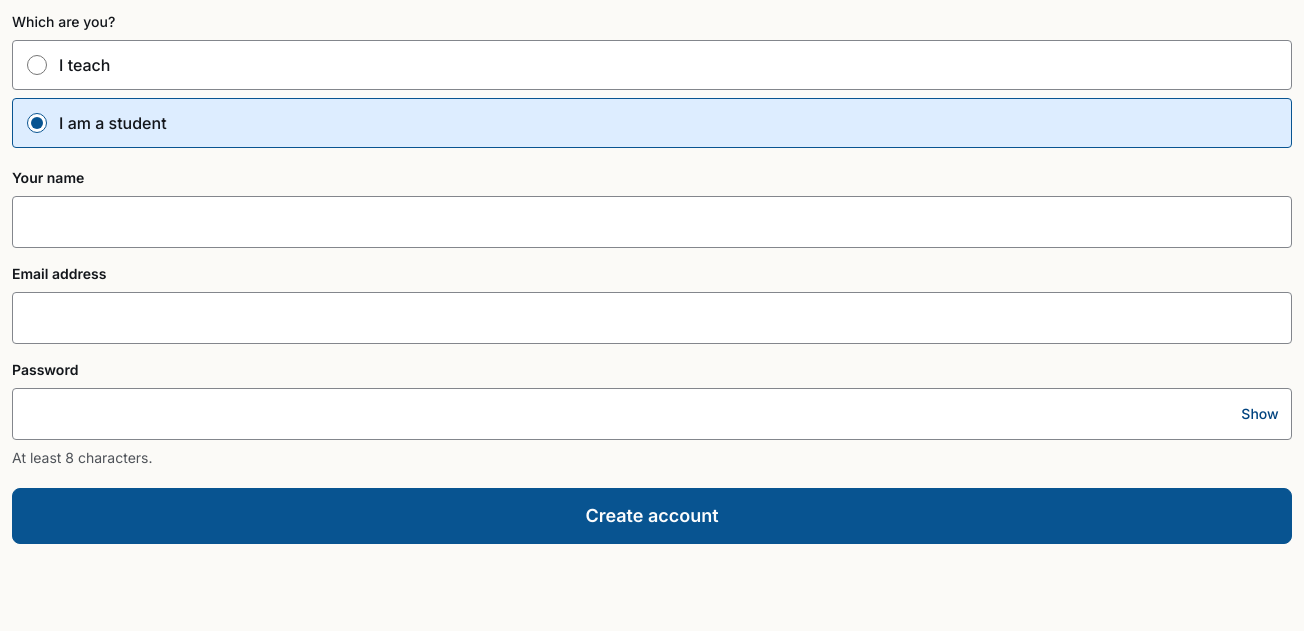
Test: SignUpForm (#361) › announces a failed CAPTCHA without moving focus into a field
Type "Ada Lovelace" into the field labelled "Your name" at x=652, y=222, box [12,196,1292,248]
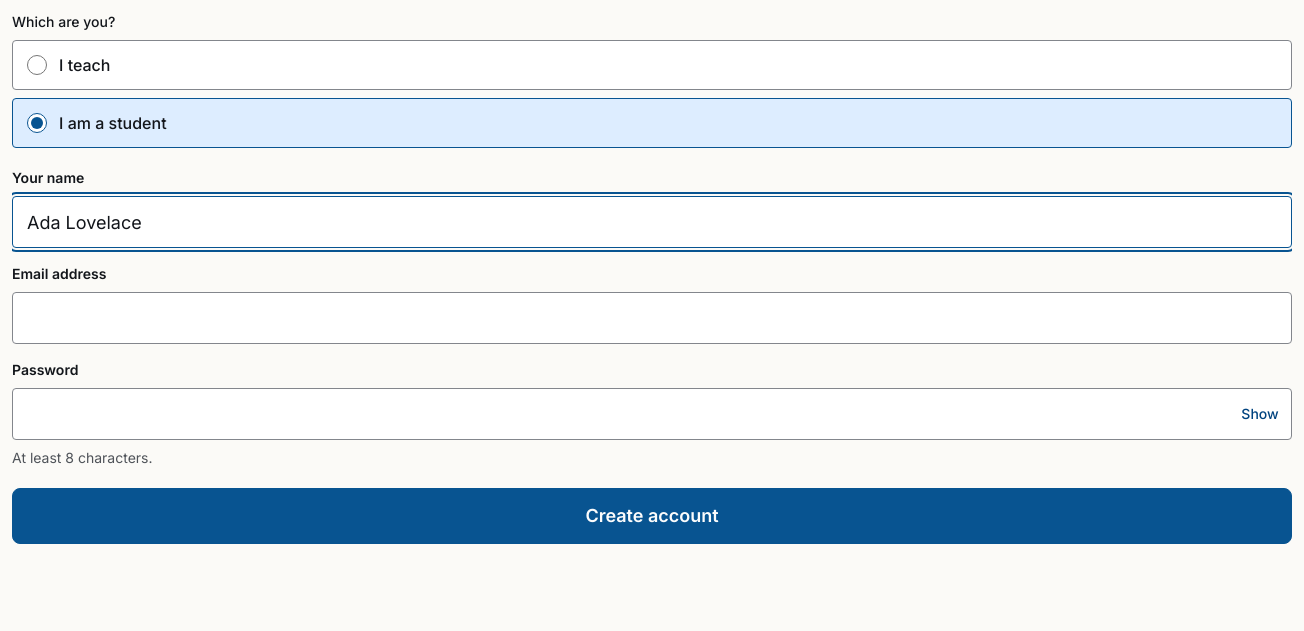
Type "ada@school.edu" into the field labelled "Email address" at x=652, y=318, box [12,292,1292,344]
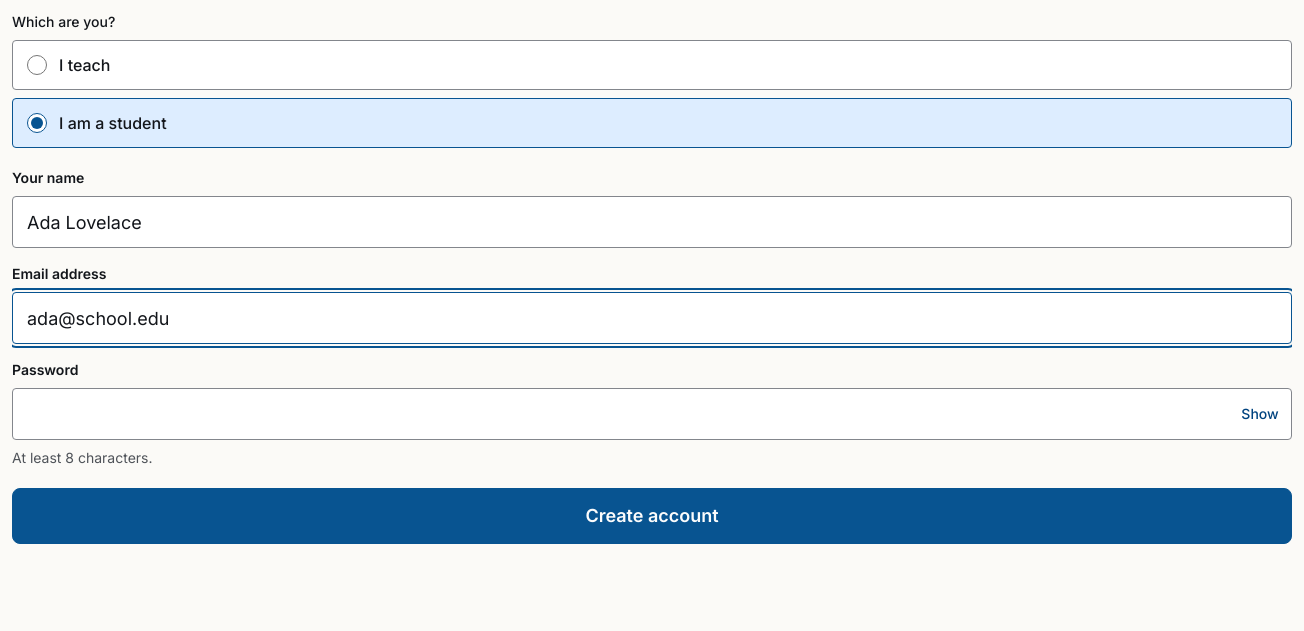
Type "correct horse battery" into the password field labelled "Password" at x=652, y=414, box [12,388,1292,440]
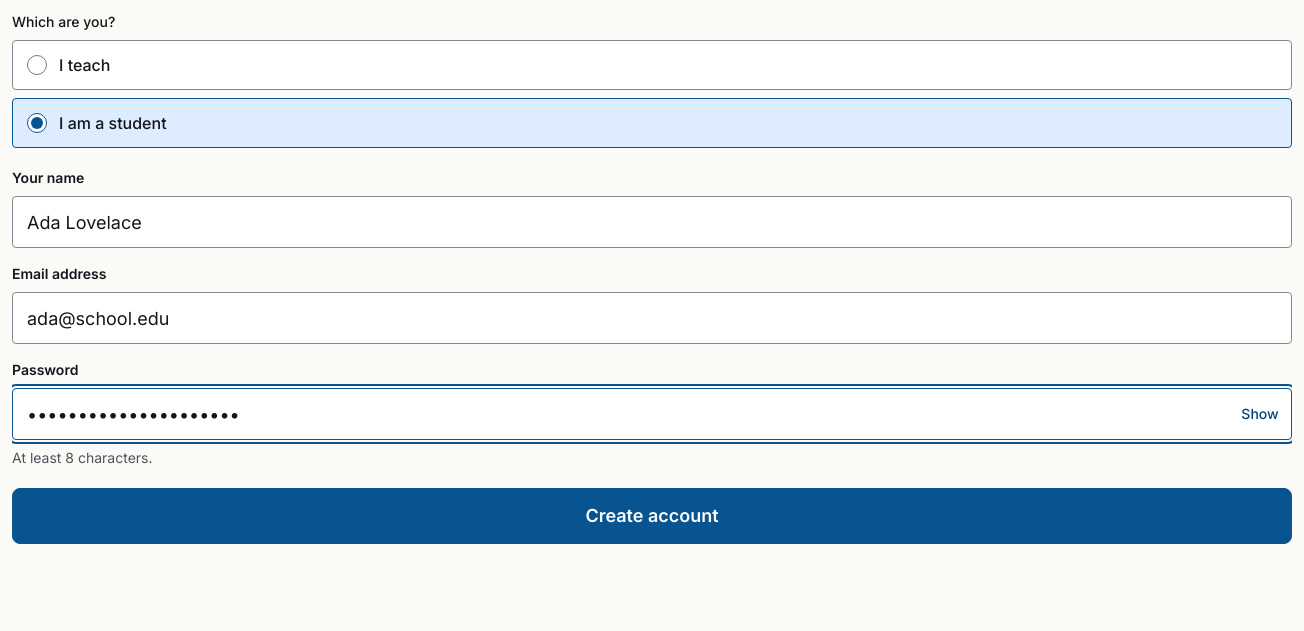
Click the button "Create account" at x=652, y=516, box [12,488,1292,544]
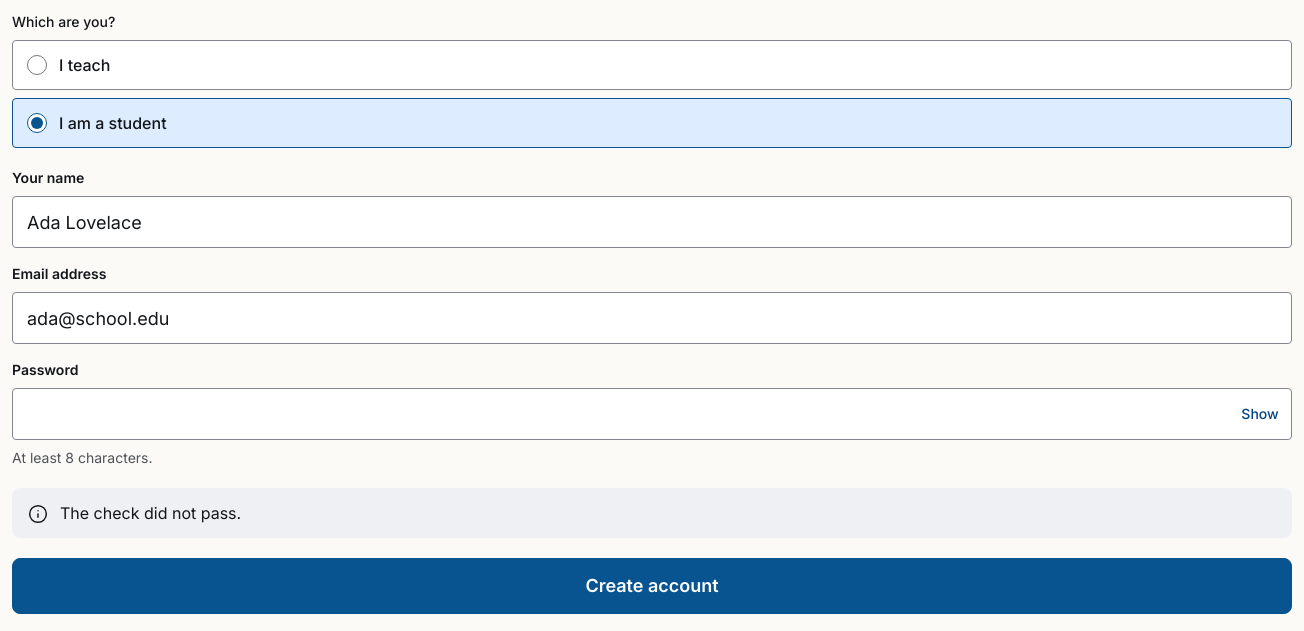
Expected: the message reads "The check did not pass.", [60,503,241,523]
